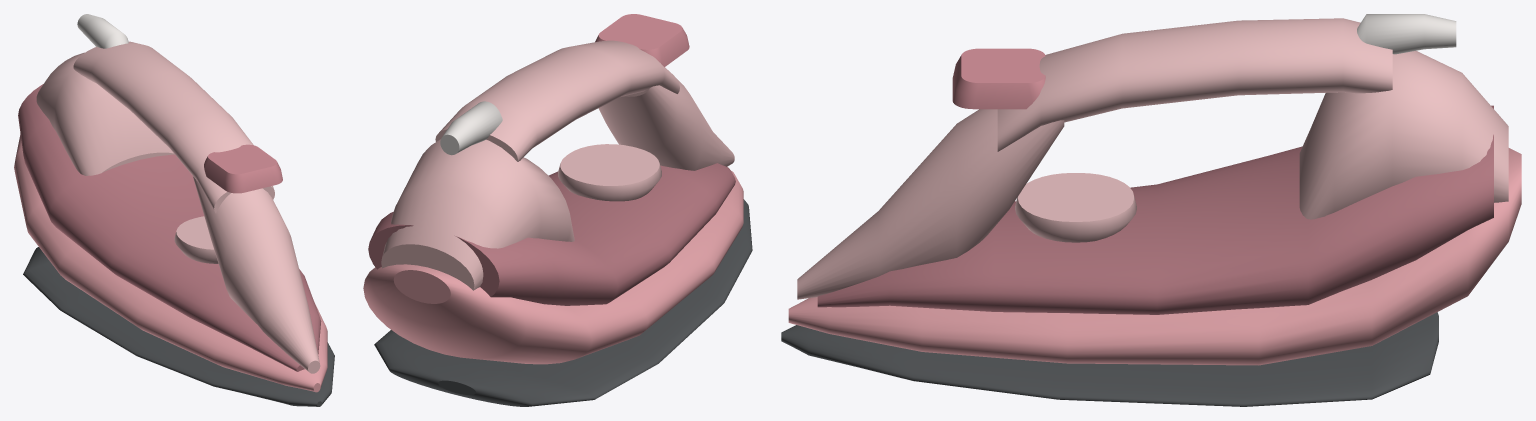
Rendered from panasonic-ni-m150np-p-v1.glb.
The picture shows the model from 3 angles, left to right: view 1: azimuth 30°, elevation 25°; view 2: azimuth 150°, elevation 25°; view 3: azimuth 270°, elevation 25°; orthographic projection. The views are drawn at different scales.
Parts seen in each view (by area): view 1: Water reservoir, Front grip support, Lower pink housing, Open bridge handle, Pointed soleplate, Rear grip support, Steam and spray triggers, Temperature wheel, Cord strain relief; view 2: Lower pink housing, Water reservoir, Rear grip support, Pointed soleplate, Open bridge handle, Front grip support, Temperature wheel, Steam and spray triggers, Cord strain relief; view 3: Water reservoir, Lower pink housing, Open bridge handle, Pointed soleplate, Rear grip support, Front grip support, Temperature wheel, Steam and spray triggers, Cord strain relief.
Part boxes in pixels (bbox=[...]): Water reservoir: bbox=[18, 84, 321, 371]; Front grip support: bbox=[193, 176, 320, 373]; Lower pink housing: bbox=[14, 134, 327, 392]; Open bridge handle: bbox=[73, 41, 274, 213]; Pointed soleplate: bbox=[23, 247, 334, 406]; Rear grip support: bbox=[36, 52, 174, 175]; Steam and spray triggers: bbox=[204, 144, 282, 193]; Temperature wheel: bbox=[174, 216, 218, 263]; Cord strain relief: bbox=[77, 14, 128, 48]; Lower pink housing: bbox=[363, 171, 743, 364]; Water reservoir: bbox=[368, 163, 735, 305]; Rear grip support: bbox=[381, 139, 574, 290]; Pointed soleplate: bbox=[374, 199, 752, 406]; Open bridge handle: bbox=[435, 40, 679, 161]; Front grip support: bbox=[598, 78, 734, 170]; Temperature wheel: bbox=[558, 144, 661, 201]; Steam and spray triggers: bbox=[595, 14, 689, 67]; Cord strain relief: bbox=[440, 101, 502, 155]; Water reservoir: bbox=[817, 105, 1493, 314]; Lower pink housing: bbox=[788, 148, 1521, 365]; Open bridge handle: bbox=[997, 18, 1392, 151]; Pointed soleplate: bbox=[781, 312, 1438, 406]; Rear grip support: bbox=[1299, 51, 1508, 219]; Front grip support: bbox=[797, 109, 1064, 299]; Temperature wheel: bbox=[1015, 173, 1136, 242]; Steam and spray triggers: bbox=[952, 48, 1045, 109]; Cord strain relief: bbox=[1357, 14, 1456, 54].
Bounding box in the file's own units: 0.113 × 0.126 × 0.255.
